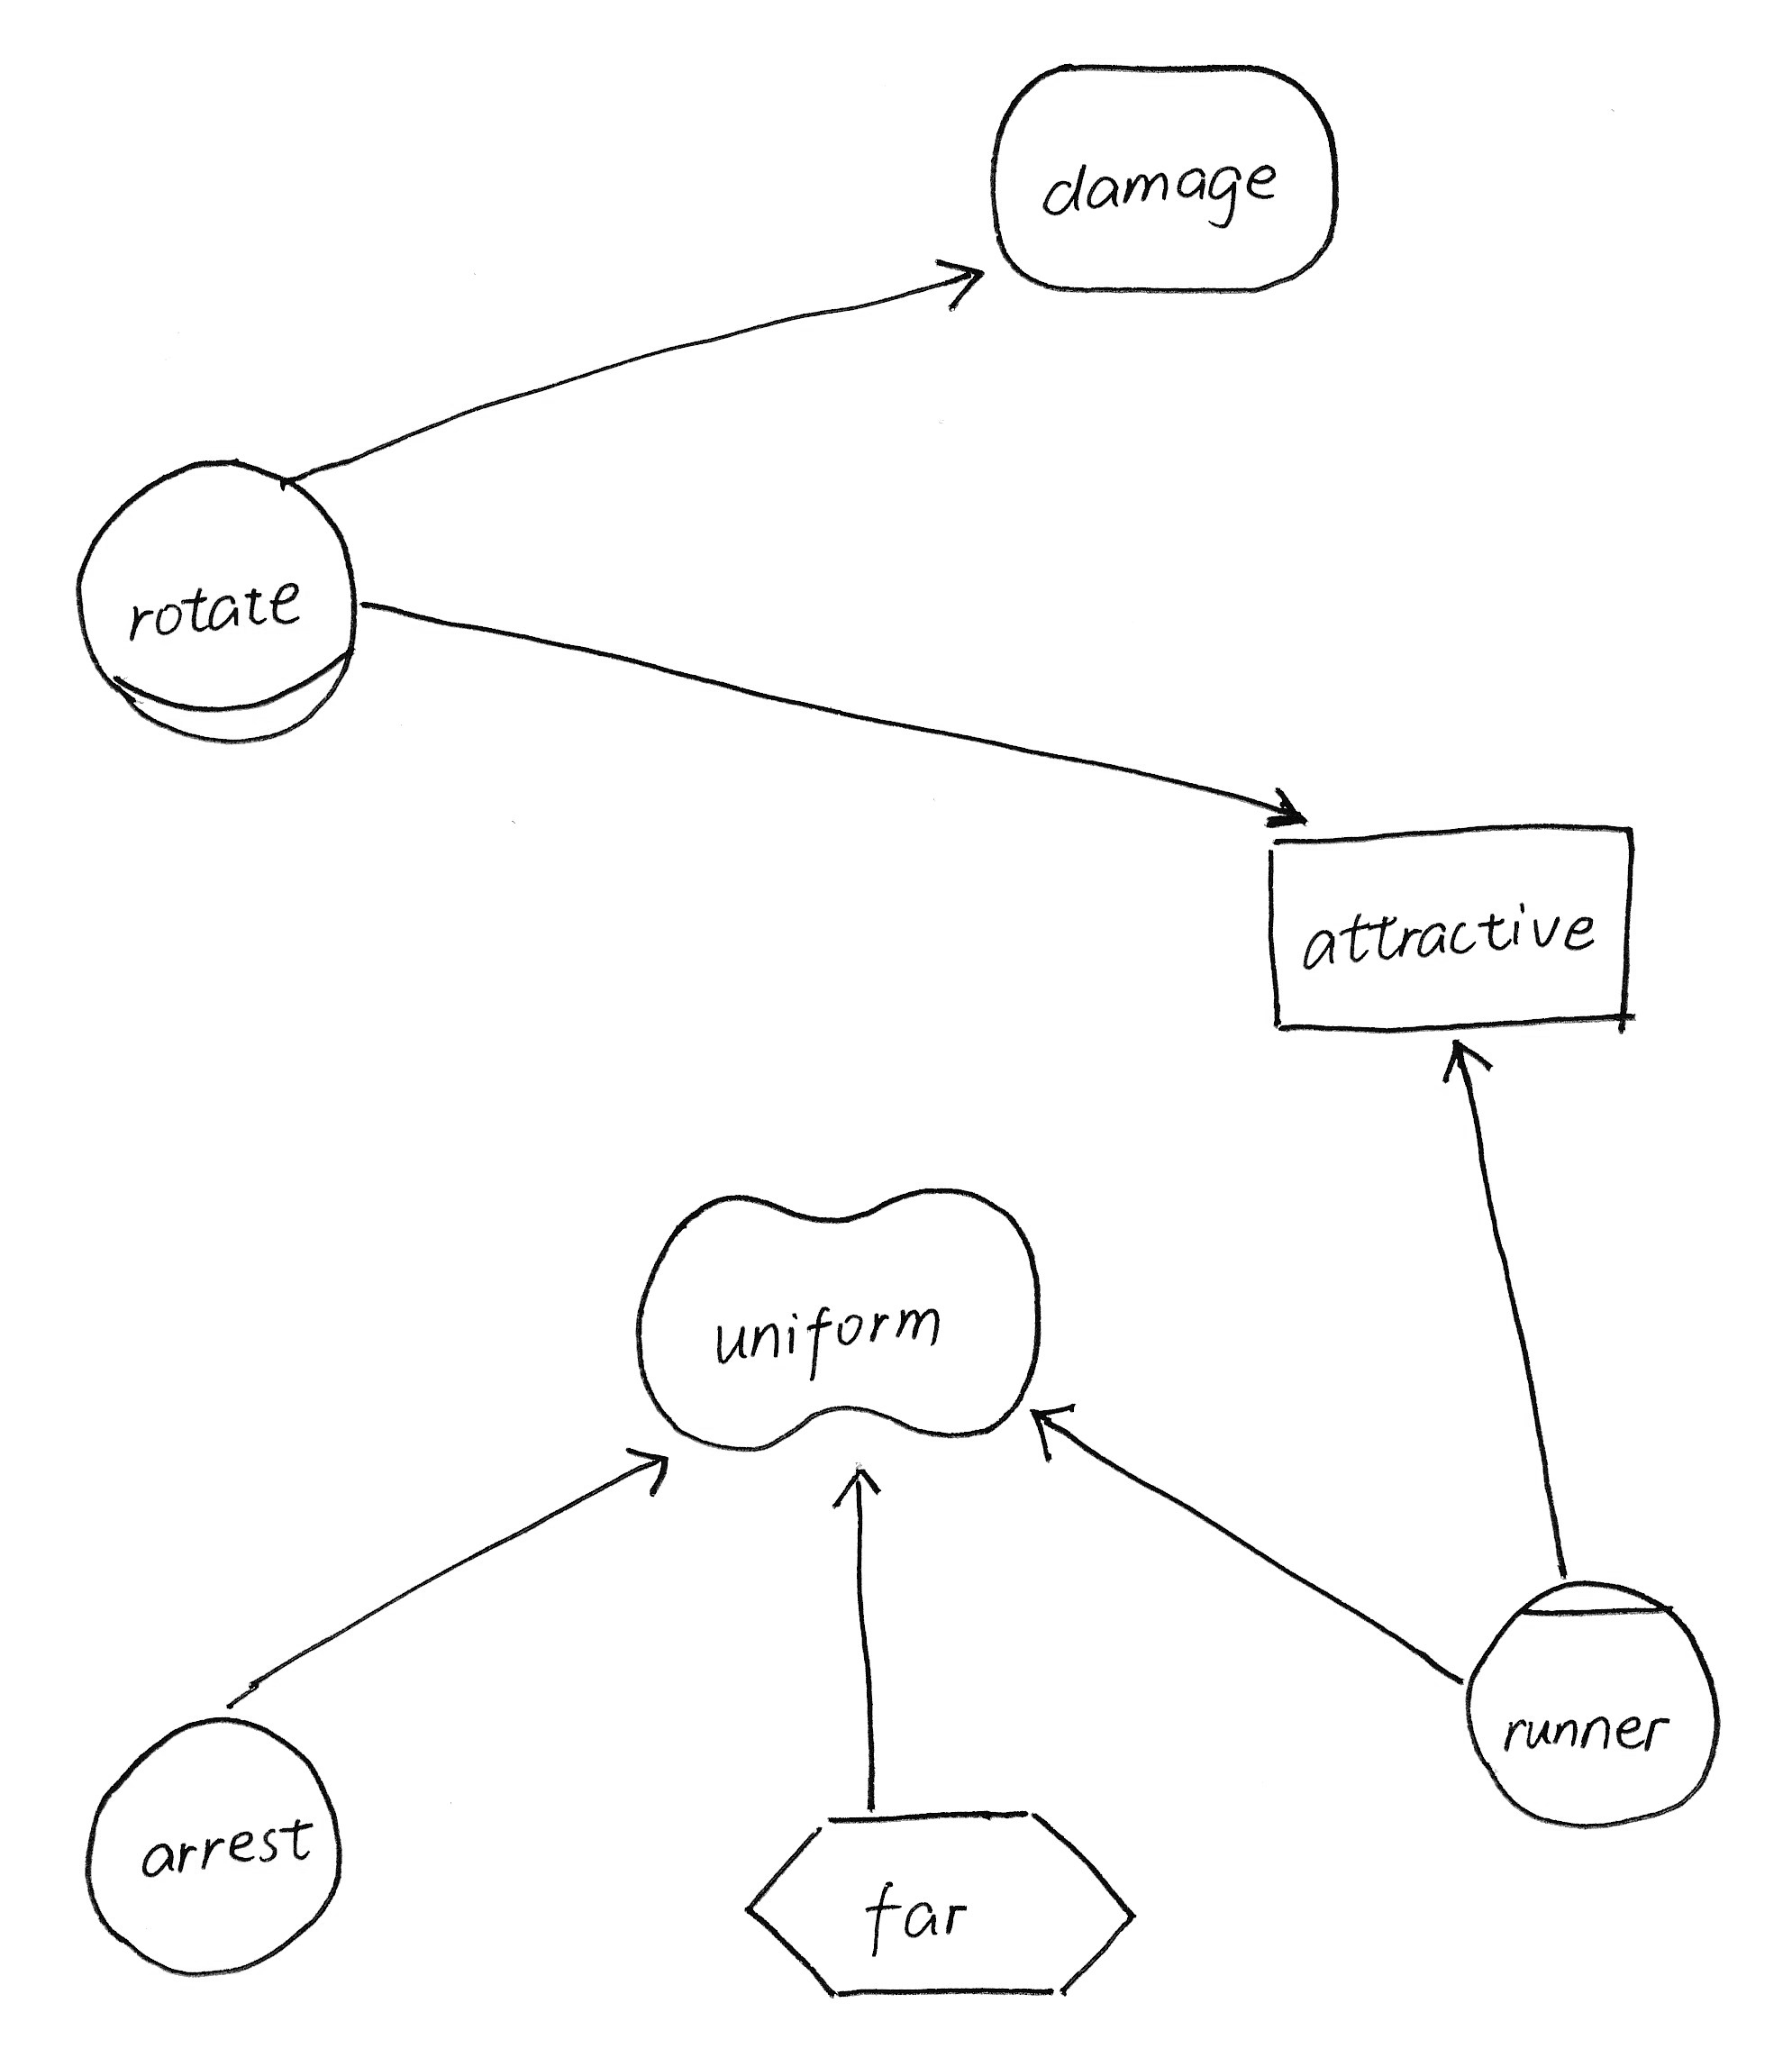actor: (63, 1701, 360, 1988)
agent: (1444, 1566, 1736, 1857)
arrow: (1011, 1384, 1102, 1479), (1239, 772, 1332, 852), (1423, 1024, 1505, 1108), (922, 238, 992, 334), (819, 1444, 898, 1522), (602, 1435, 688, 1500)
goal: (964, 42, 1367, 317)
quality: (621, 1172, 1067, 1461)
resource: (1248, 801, 1662, 1064)
role: (56, 437, 385, 768)
task: (731, 1788, 1158, 2018)
